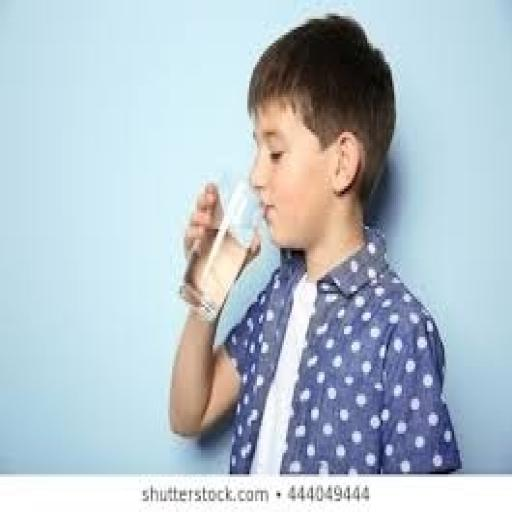drinking: (178, 2, 396, 321)
